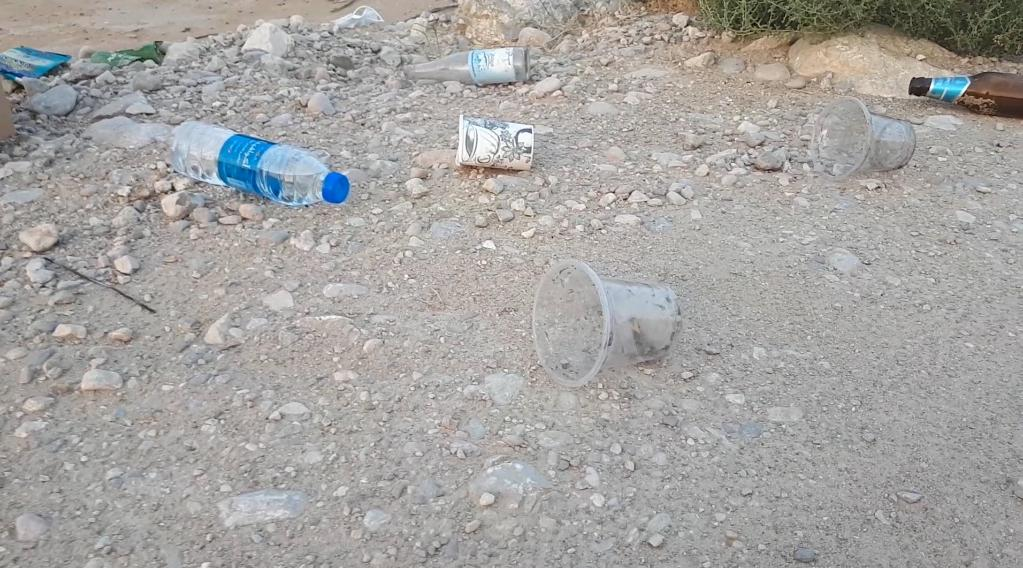garbage: (162, 106, 351, 221), (539, 265, 680, 386), (171, 121, 350, 206), (905, 66, 1023, 137), (445, 110, 541, 177), (909, 72, 1023, 118), (405, 46, 531, 86), (402, 52, 550, 86), (0, 50, 88, 74), (111, 41, 164, 63), (91, 51, 144, 66)
